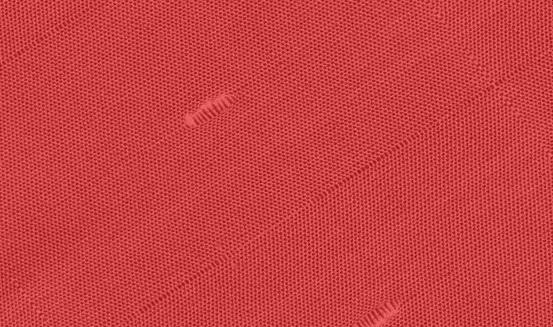slub: (175, 87, 250, 137)
